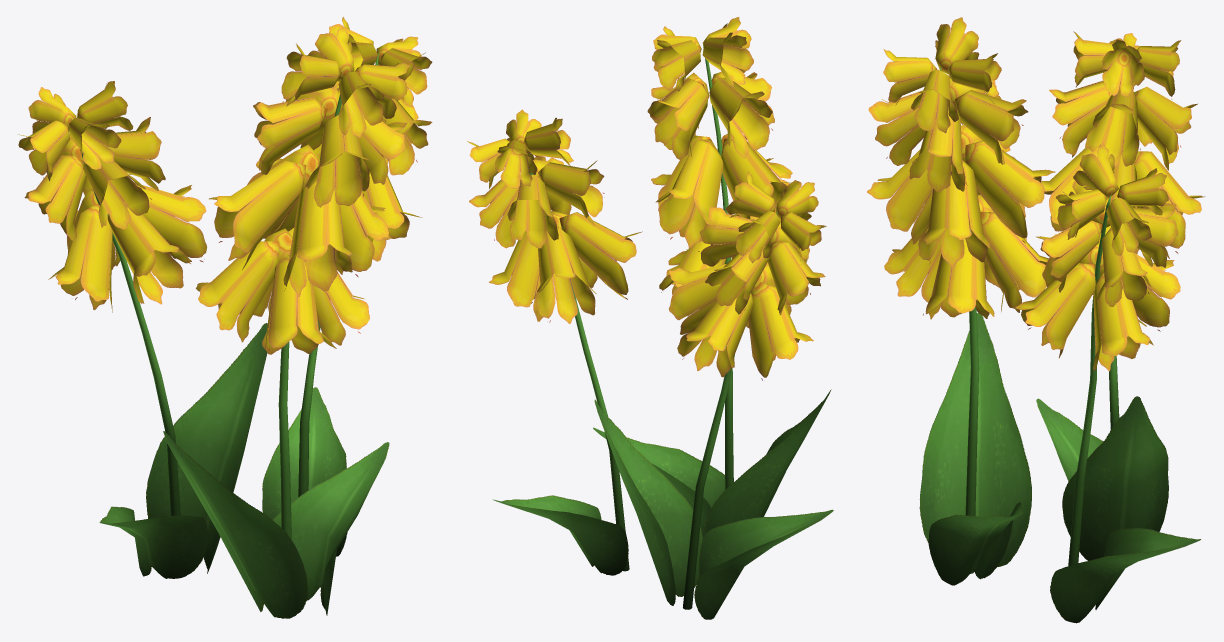
File: flower_b_group.glb
The picture shows the model from 3 angles, left to right: view 1: azimuth 30°, elevation 25°; view 2: azimuth 150°, elevation 25°; view 3: azimuth 270°, elevation 25°; orthographic projection. The views are drawn at different scales.
Parts seen in each view (by area): view 1: Flower_4_Group; view 2: Flower_4_Group; view 3: Flower_4_Group.
Part boxes in pixels (x1,y1,x2,y2): Flower_4_Group: [17, 17, 432, 618]; Flower_4_Group: [467, 17, 833, 619]; Flower_4_Group: [867, 17, 1205, 623].
Size of the model in its own units: 1.78 by 2.49 by 1.37.
2 materials, 2 textured.
